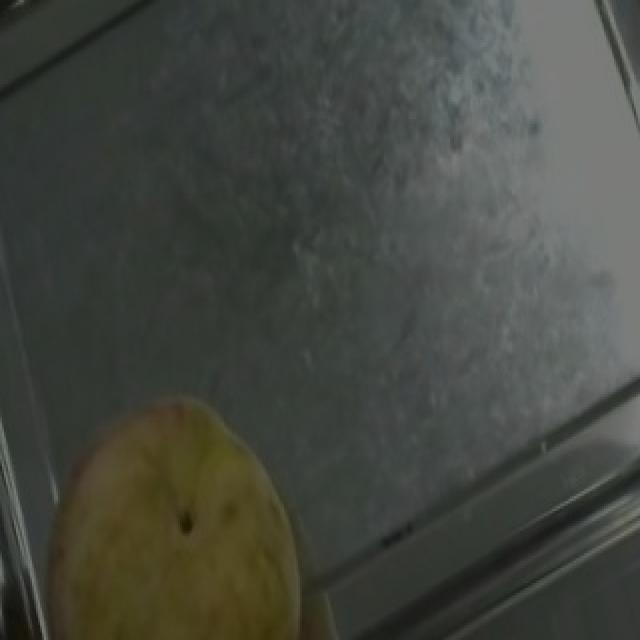Fruit: (14, 362, 346, 640)
